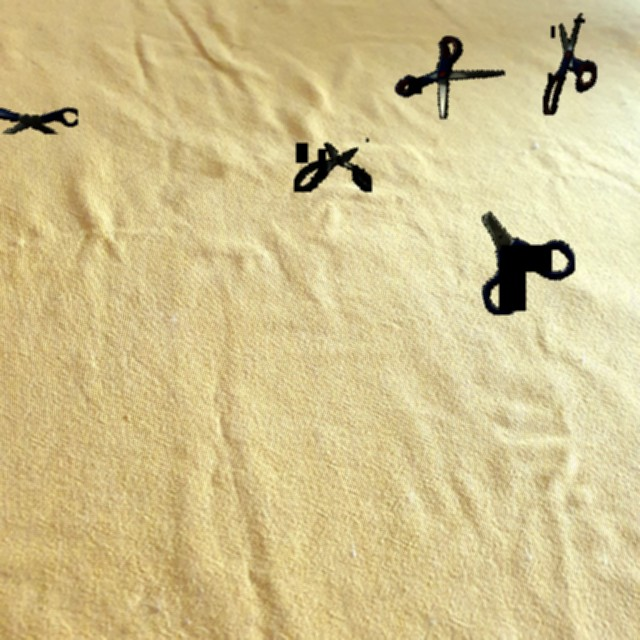scissors: (482, 211, 575, 315), (395, 36, 505, 119), (543, 13, 597, 115), (294, 138, 372, 192), (0, 103, 78, 134)
